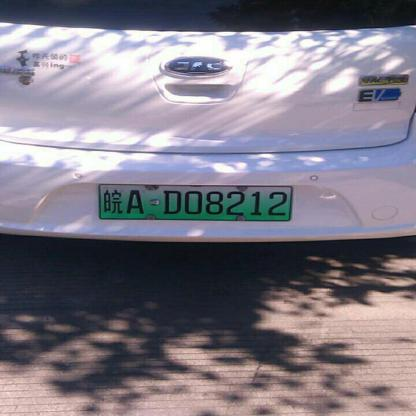lp: (100, 184, 292, 219)
